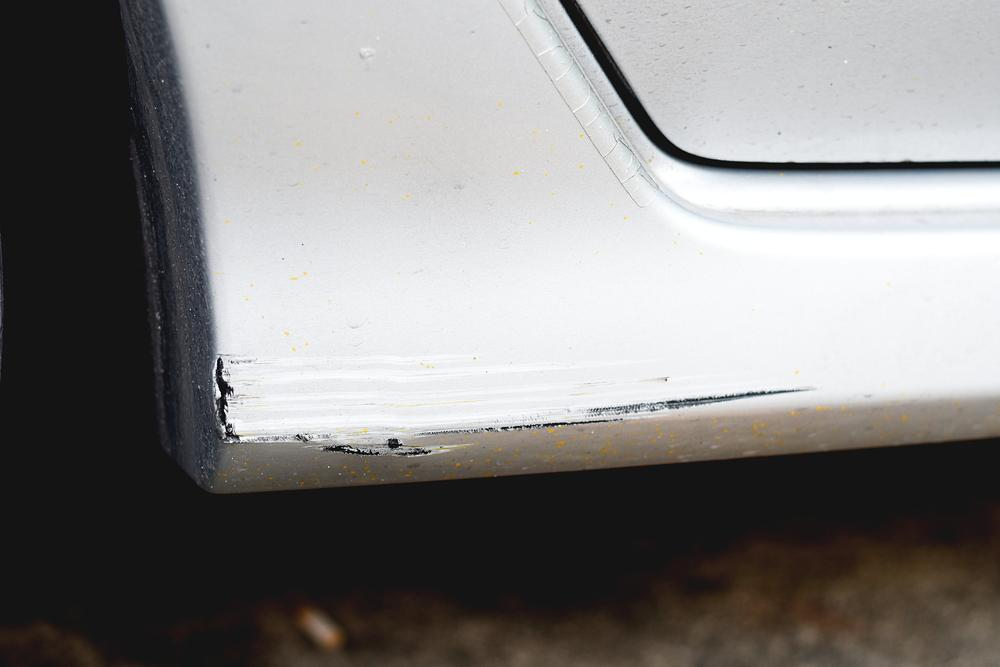scratch: (203, 350, 817, 462)
